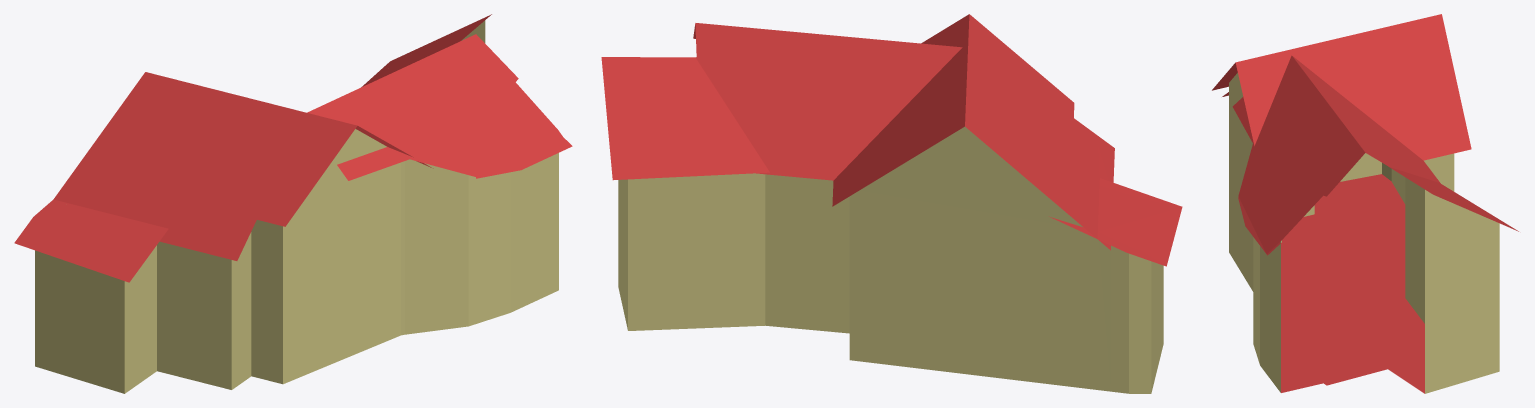
3 renders of one model, left to right at view 1: azimuth 30°, elevation 25°; view 2: azimuth 150°, elevation 25°; view 3: azimuth 270°, elevation 25°, orthographic. The views are drawn at different scales.
Size of the model in its own units: 27.49 by 15.39 by 12.41.
